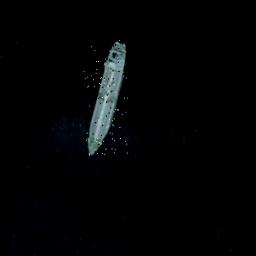boat: (80, 39, 132, 155)
